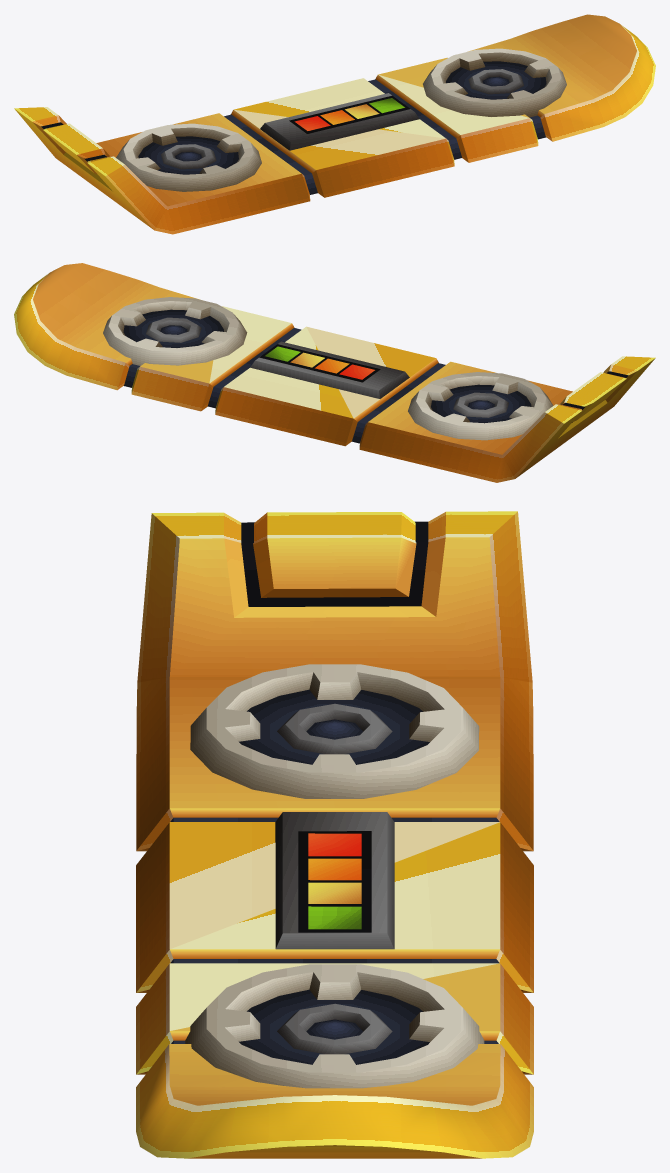
Rendered from starterPackBoard01.glb.
3 renders of one model, top to bottom at view 1: azimuth 30°, elevation 25°; view 2: azimuth 150°, elevation 25°; view 3: azimuth 270°, elevation 25°, orthographic. The views are drawn at different scales.
Visible parts, largest first — view 1: starterPackBoard01, StarterpackHUD_03; view 2: starterPackBoard01, StarterpackHUD_03; view 3: starterPackBoard01, StarterpackHUD_01, StarterpackHUD_04, StarterpackHUD_03, StarterpackHUD_02.
Part boxes in pixels (left/top/right/bottom): starterPackBoard01: left=14, top=14, right=655, bottom=234; StarterpackHUD_03: left=320, top=104, right=404, bottom=124; starterPackBoard01: left=14, top=263, right=655, bottom=482; StarterpackHUD_03: left=265, top=348, right=349, bottom=373; starterPackBoard01: left=136, top=511, right=533, bottom=1158; StarterpackHUD_01: left=308, top=906, right=361, bottom=929; StarterpackHUD_04: left=308, top=833, right=361, bottom=856; StarterpackHUD_03: left=308, top=858, right=361, bottom=880; StarterpackHUD_02: left=308, top=882, right=361, bottom=903.
Bounding box in the file's own units: 11.1 × 1.51 × 3.31.
1 material, 1 textured.
